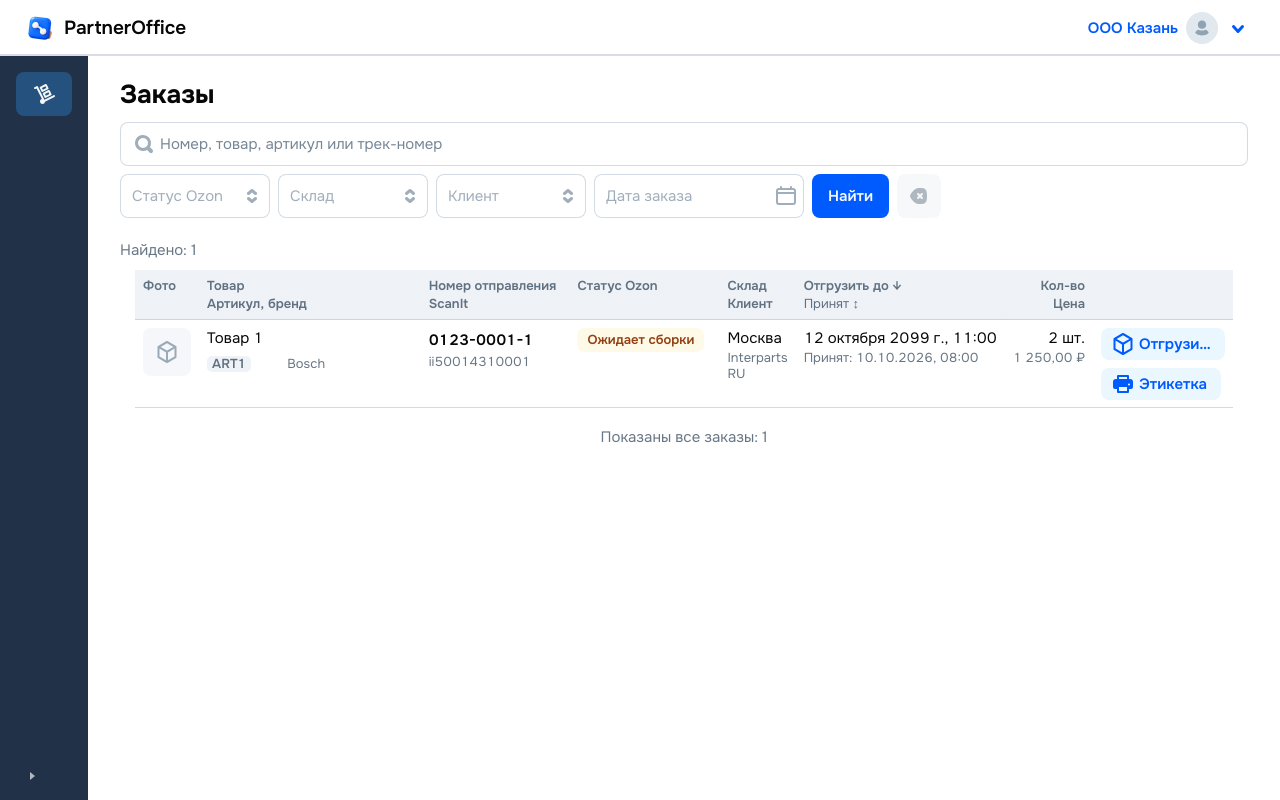
Test case: Отгрузка › после подтверждения проверяет требования Ozon, отгружает и показывает результат; строка обновляется
The width and height of the screenshot is (1280, 800).
Click the button "Отгрузить": (1163, 344) left=1101, top=328, right=1225, bottom=360
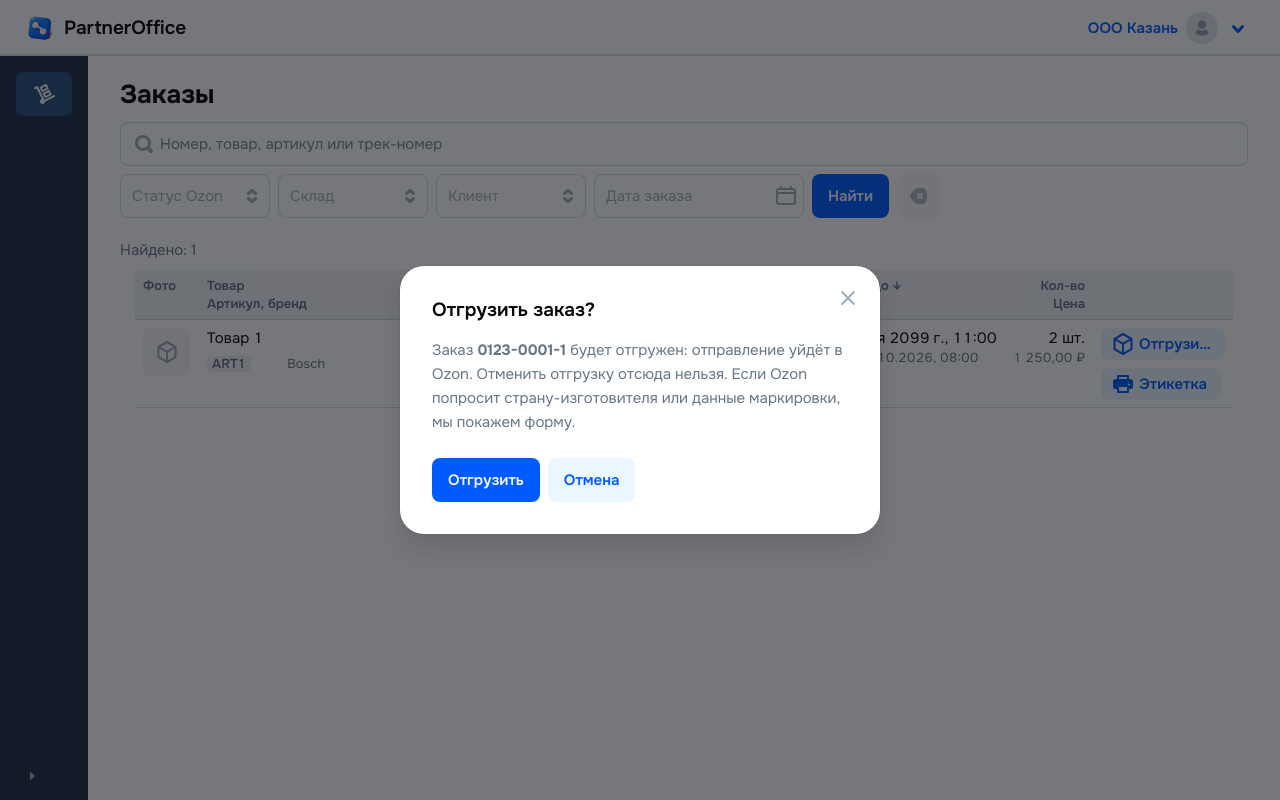
Click the button "Отгрузить": (486, 480) left=432, top=458, right=540, bottom=502
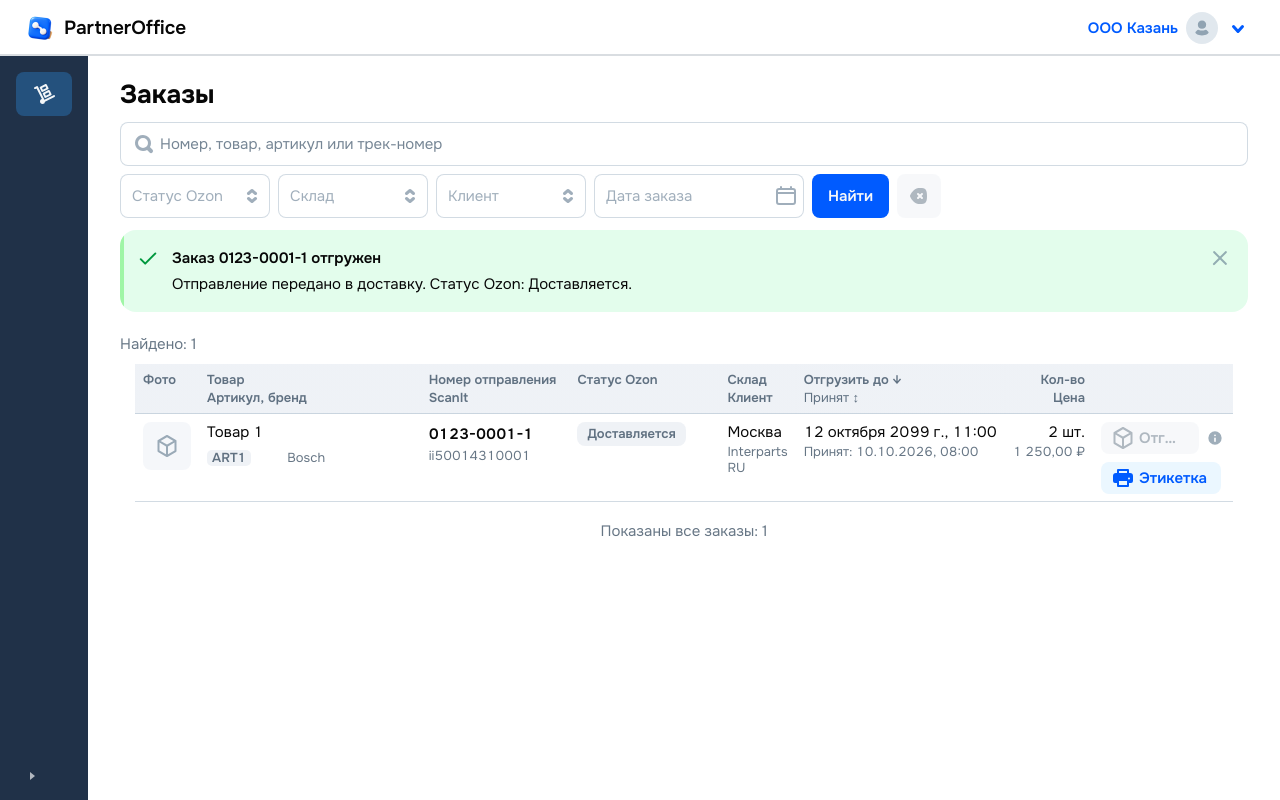
Check: the text "Заказ 0123-0001-1 отгружен" is shown, box left=172, top=248, right=381, bottom=268
Check: the text "Отправление передано в доставку. Статус Ozon: Доставляется." is shown, box left=172, top=272, right=632, bottom=296
Check: the text "Доставляется" is shown, box left=587, top=424, right=676, bottom=444
